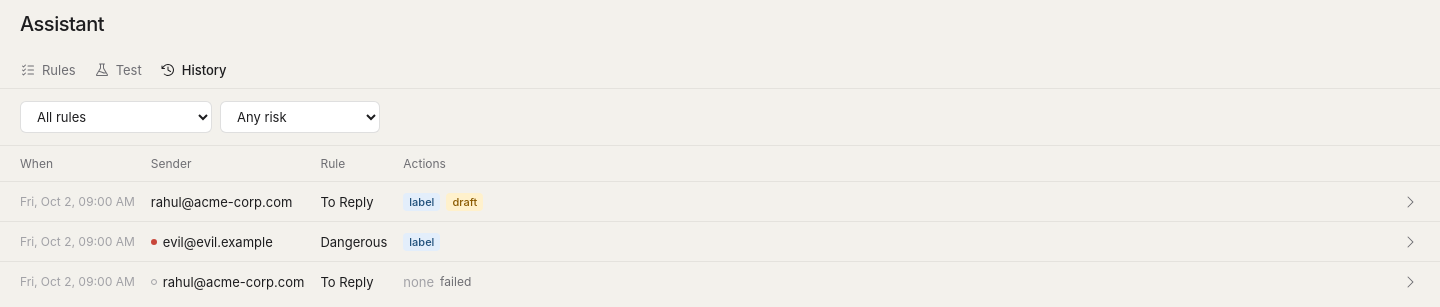
AssistantPage · History › lists runs as a table with chips and the risk dot, filters by rule and expands why
Expected: the number of links "rahul@acme-corp.com" is 2, left=151, top=192, right=292, bottom=210; left=163, top=273, right=304, bottom=291
Expected: the text "Draft" is shown, left=446, top=192, right=483, bottom=210
Select "Dangerous" in the dropdown named "Filter by rule" at (116, 117), box left=20, top=101, right=212, bottom=133
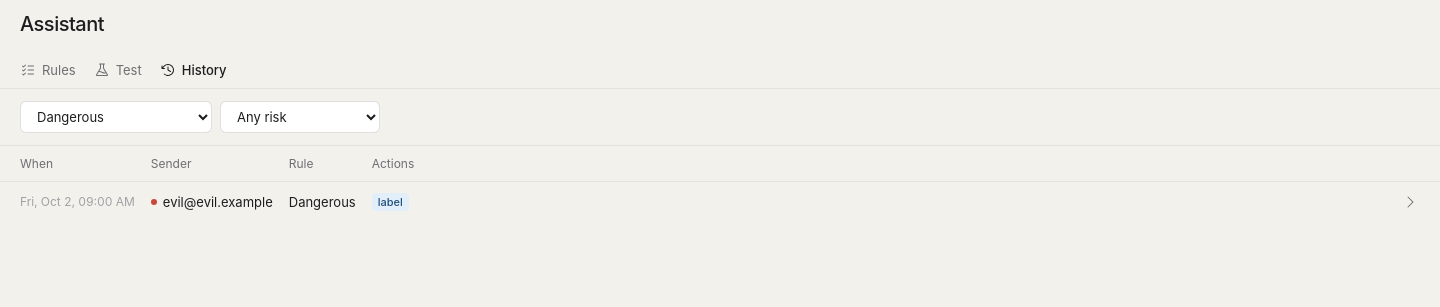
Expected: the link "rahul@acme-corp.com" is gone
Click the button named "Why?" at (1410, 202), box left=1396, top=188, right=1424, bottom=216
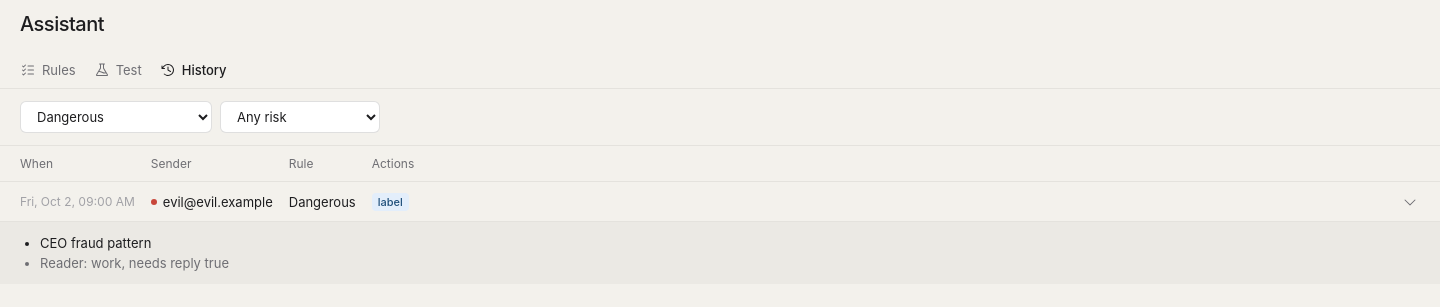
Expected: the list item "CEO fraud pattern" is shown, left=40, top=235, right=151, bottom=251
